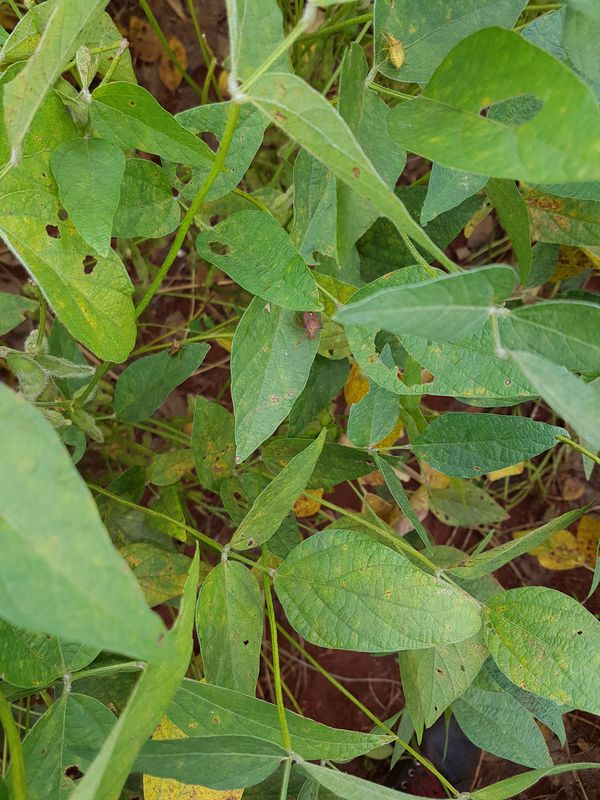Euschistus_heros_adulto: (287, 302, 335, 346), (160, 334, 191, 365)
Euschistus_heros_ninfa: (368, 24, 414, 74)
